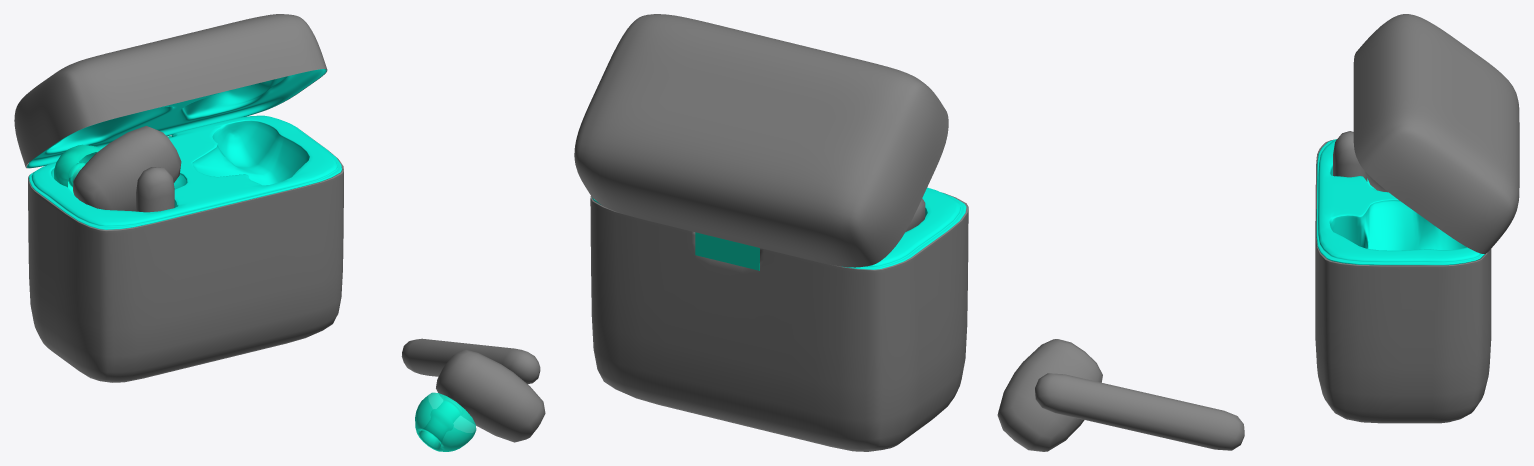
Rendered from wireless_earbuds.glb.
3 views of the same model, side by side, from view 1: azimuth 30°, elevation 25°; view 2: azimuth 150°, elevation 25°; view 3: azimuth 270°, elevation 25° (orthographic). The views are drawn at different scales.
Visible parts, largest first — view 1: polySurface20, polySurface30, polySurface19, polySurface24, polySurface27, polySurface29, polySurface25, polySurface28; view 2: polySurface30, polySurface20, polySurface19, polySurface18; view 3: polySurface30, polySurface20, polySurface24, polySurface19, polySurface27.
Boxes of the visible parts, x1,y1,x2,y2 form: polySurface20: (28, 127, 343, 382); polySurface30: (14, 14, 327, 168); polySurface19: (29, 115, 341, 229); polySurface24: (401, 338, 545, 442); polySurface27: (73, 126, 181, 212); polySurface29: (27, 69, 326, 168); polySurface25: (415, 392, 476, 451); polySurface28: (54, 144, 100, 193); polySurface30: (574, 14, 948, 267); polySurface20: (590, 193, 968, 451); polySurface19: (592, 187, 966, 269); polySurface18: (695, 232, 759, 270); polySurface30: (1353, 14, 1519, 253); polySurface20: (1315, 139, 1491, 423); polySurface24: (997, 339, 1244, 451); polySurface19: (1316, 139, 1484, 265); polySurface27: (1333, 131, 1387, 192).
Bounding box in the file's own units: 0.1226 × 0.1146 × 0.1749.
